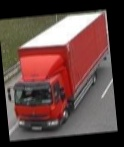truck: (1, 12, 116, 133)
